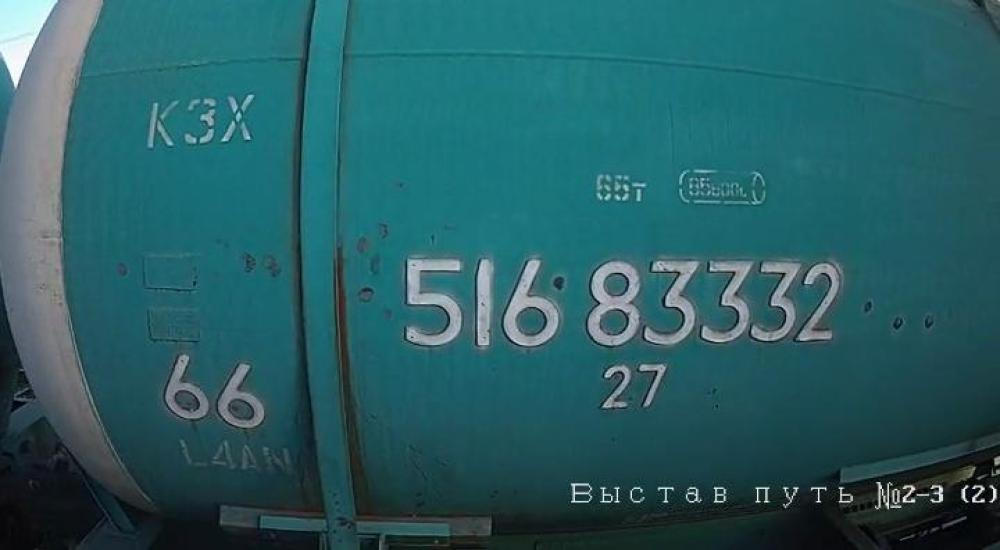Wagon-number: (395, 252, 844, 351)
